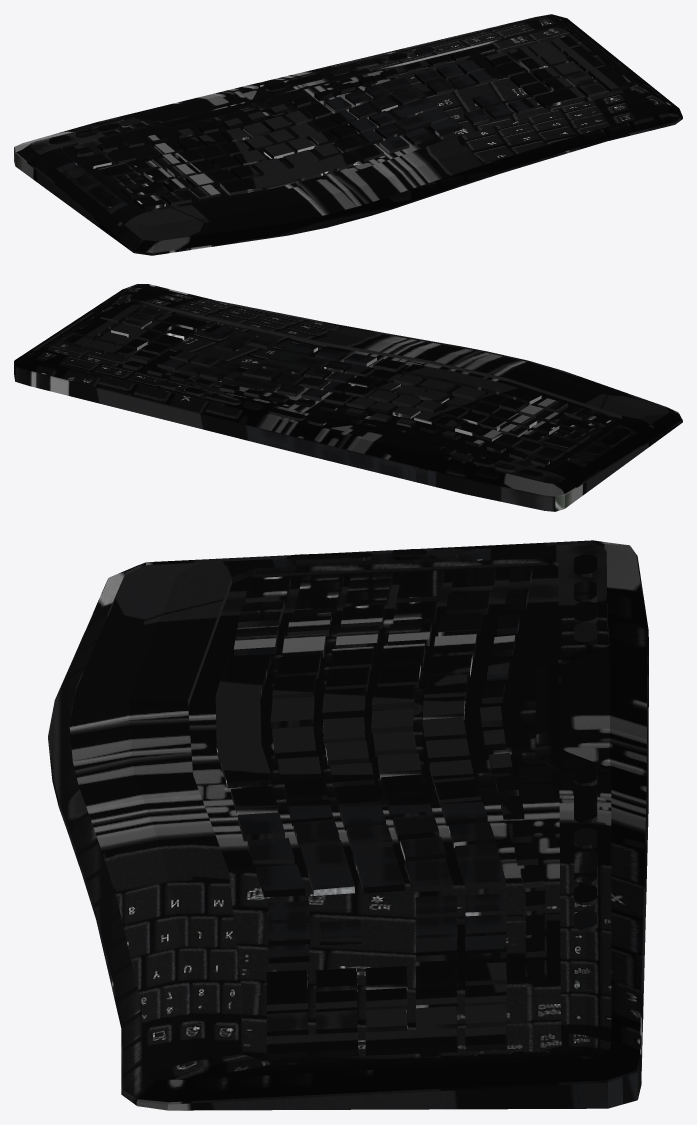
The model's file is keyboard.obj.
3 views of the same model, one above another, from view 1: azimuth 30°, elevation 25°; view 2: azimuth 150°, elevation 25°; view 3: azimuth 270°, elevation 25° (orthographic). The views are drawn at different scales.
Parts seen in each view (by area): view 1: 10105_Computer_Keyboard_v1; view 2: 10105_Computer_Keyboard_v1; view 3: 10105_Computer_Keyboard_v1.
Part boxes in pixels (x1,y1,x2,y2): 10105_Computer_Keyboard_v1: [14, 14, 682, 255]; 10105_Computer_Keyboard_v1: [14, 284, 682, 511]; 10105_Computer_Keyboard_v1: [48, 540, 648, 1110].
Bounding box in the file's own units: 1.39 × 0.0545 × 0.6536.
1 material, 1 textured.
